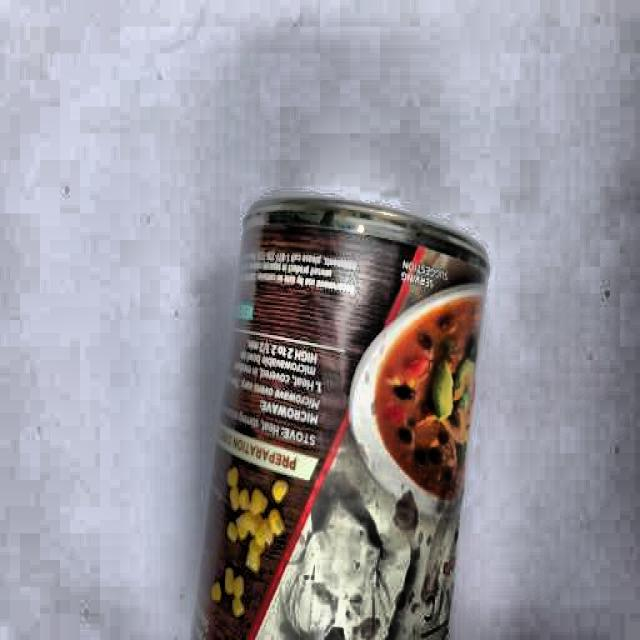metal: (201, 197, 487, 640)
